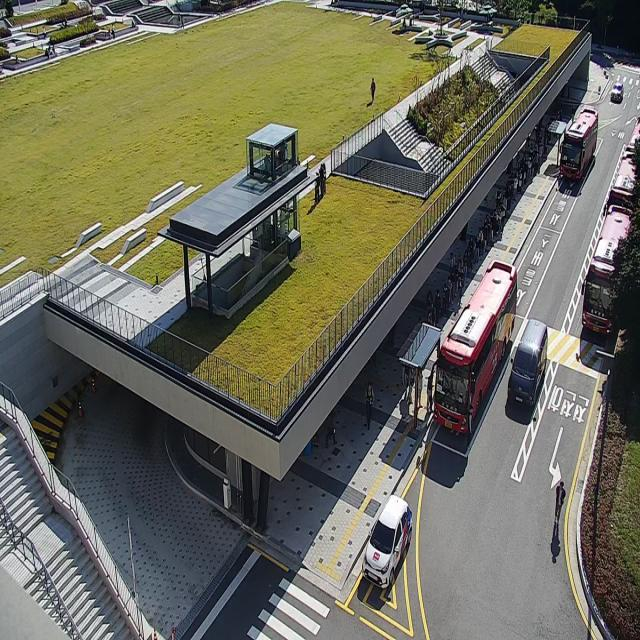queue: (415, 104, 563, 431)
